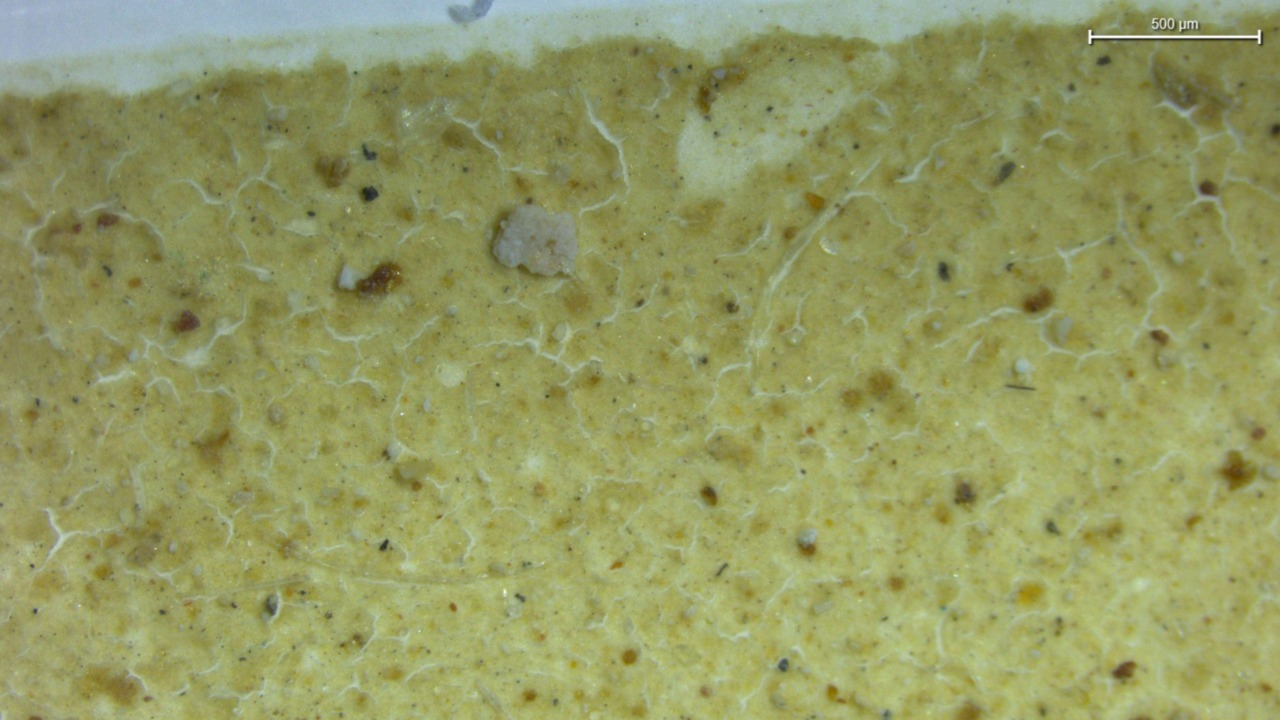microplastic_fragment: (493, 204, 579, 276)
